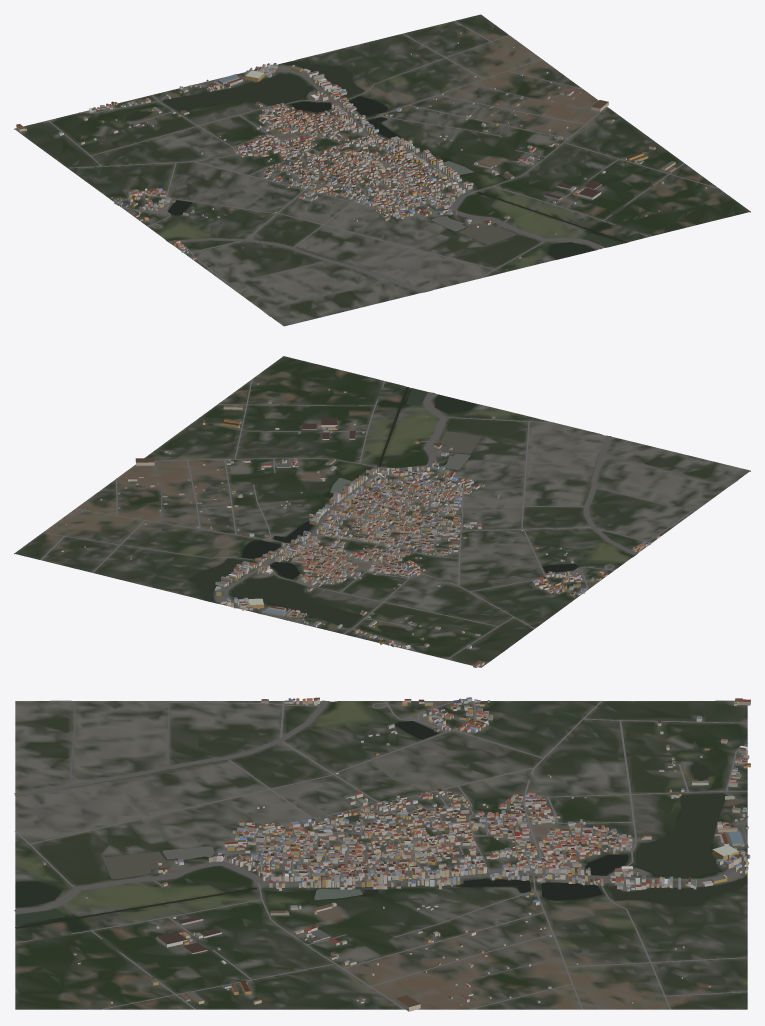
3 views of the same model, one above another, from view 1: azimuth 30°, elevation 25°; view 2: azimuth 150°, elevation 25°; view 3: azimuth 270°, elevation 25° (orthographic). The views are drawn at different scales.
Parts seen in each view (by area): view 1: ground, buildings, roads, water; view 2: ground, buildings, roads, water; view 3: ground, buildings, water, roads.
Part boxes in pixels (box(x1,y1,x2,y2)): ground: box(14, 14, 750, 326); buildings: box(16, 31, 706, 259); roads: box(48, 20, 718, 316); water: box(125, 61, 627, 291); ground: box(14, 356, 750, 667); buildings: box(61, 383, 660, 667); roads: box(40, 379, 738, 659); water: box(190, 387, 635, 633); ground: box(15, 700, 747, 1009); buildings: box(42, 697, 750, 1011); water: box(15, 701, 747, 931); roads: box(14, 700, 749, 1009).
Size of the model in its own units: 1414 by 28.31 by 1411.
